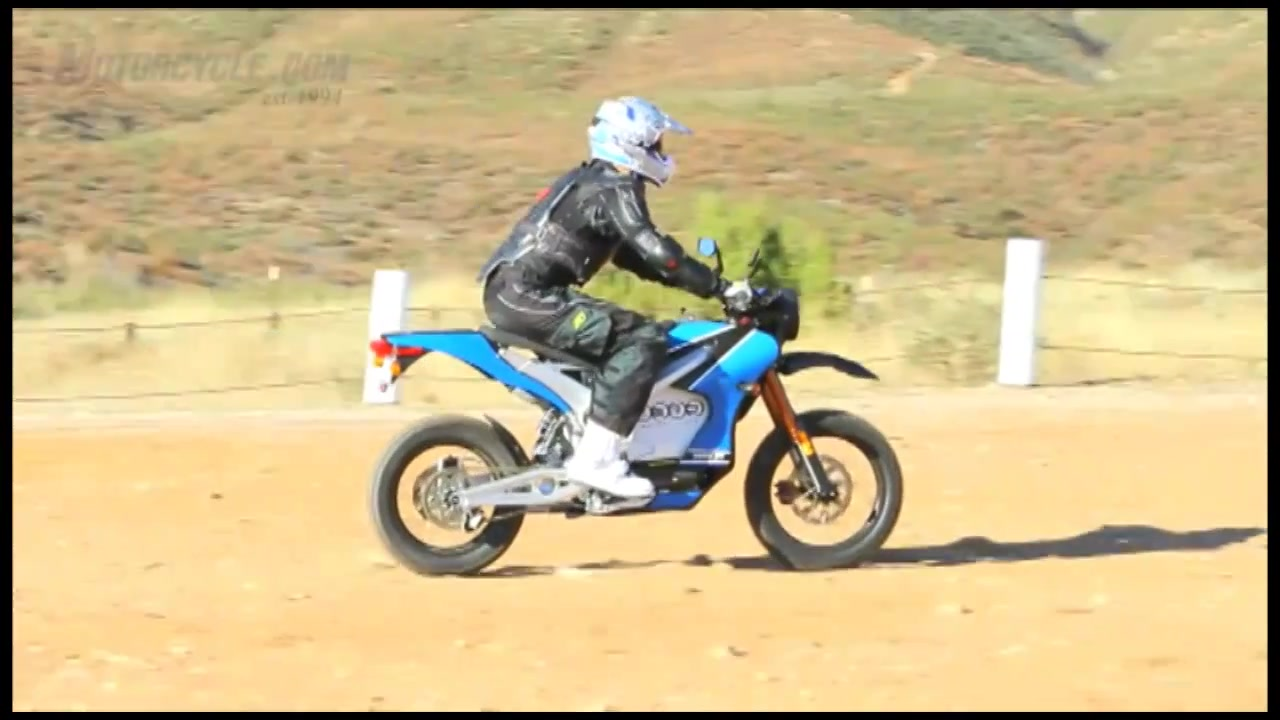motorbike: (369, 234, 902, 582)
